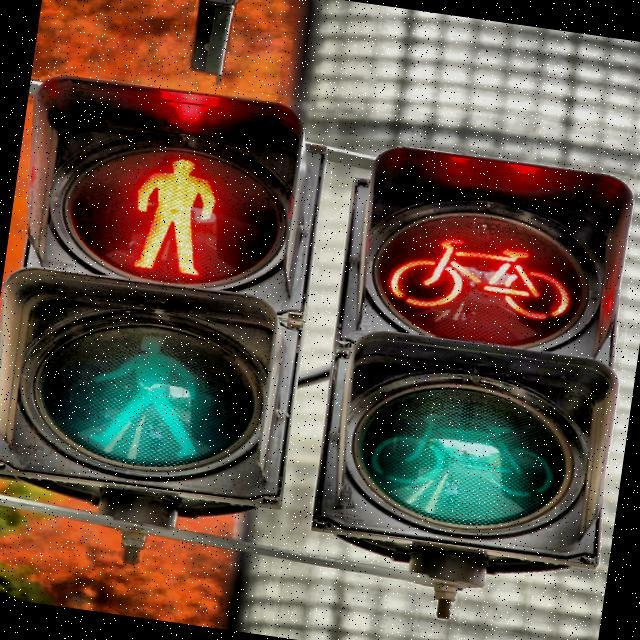red_light: (115, 145, 232, 283)
